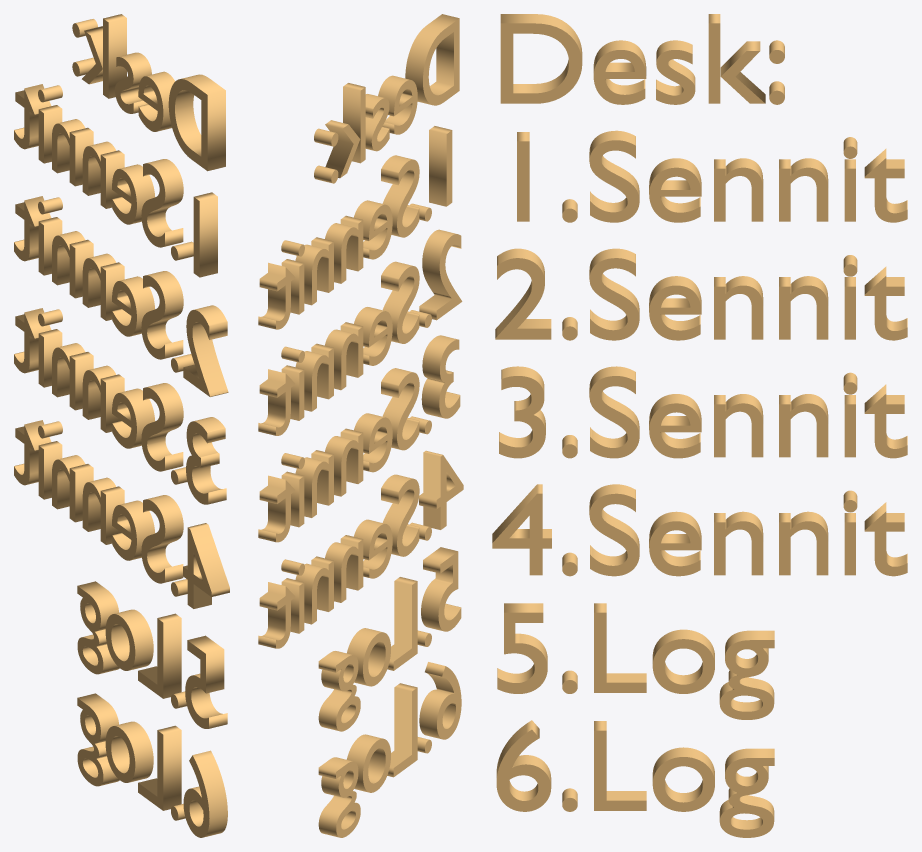
File: sixth.fbx
3 views of the same model, side by side, from view 1: azimuth 30°, elevation 25°; view 2: azimuth 150°, elevation 25°; view 3: azimuth 270°, elevation 25° (orthographic). The views are drawn at different scales.
Parts seen in each view (by area): view 1: Text; view 2: Text; view 3: Text.
Boxes of the visible parts, box(x1,y1,x2,y2) form: Text: box(14, 14, 229, 837); Text: box(258, 14, 463, 837); Text: box(492, 14, 907, 837).
Bounding box in the file's own units: 17.2 × 691 × 320.
